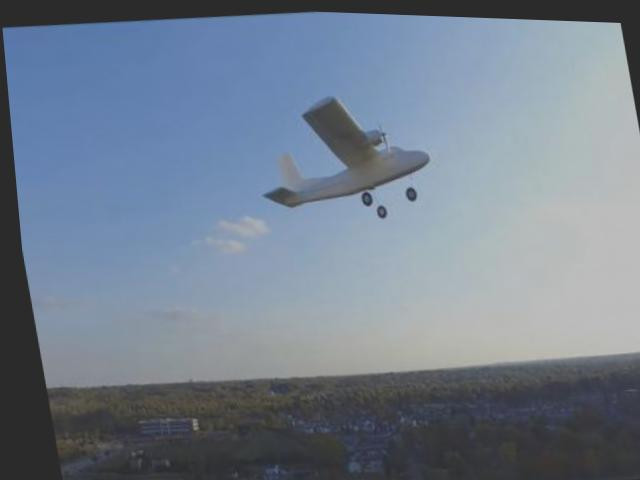uav: (243, 83, 436, 223)
